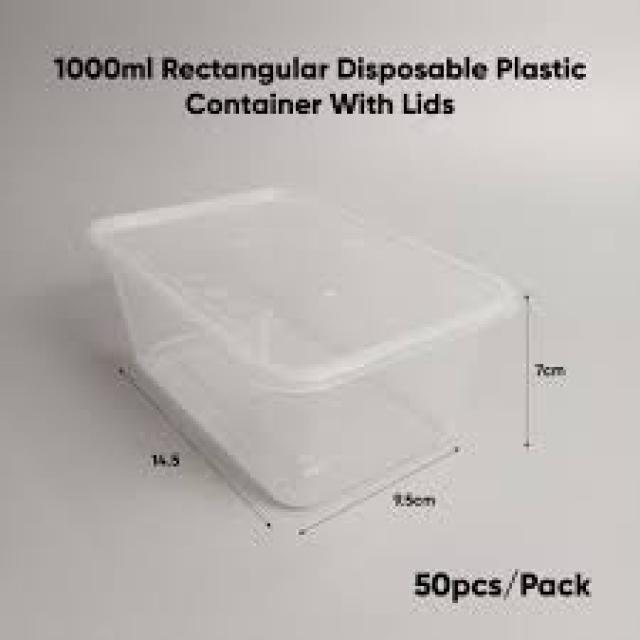disposable: (62, 178, 535, 526)
